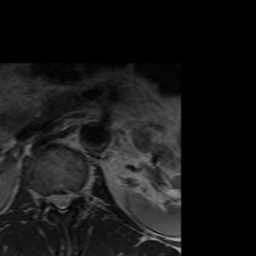CCS_normal: (58, 184, 65, 219)
LFS_stenosis: (73, 182, 81, 205)
LLS_normal: (65, 184, 73, 213)
RFS_normal: (42, 185, 50, 210)
RLS_normal: (50, 184, 58, 213)
